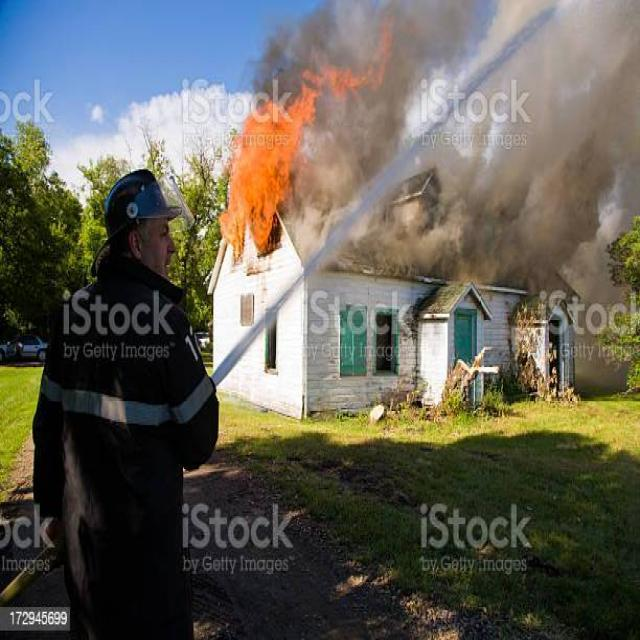Fire: (220, 106, 314, 252)
Smoke: (319, 4, 640, 280), (568, 288, 630, 398)
